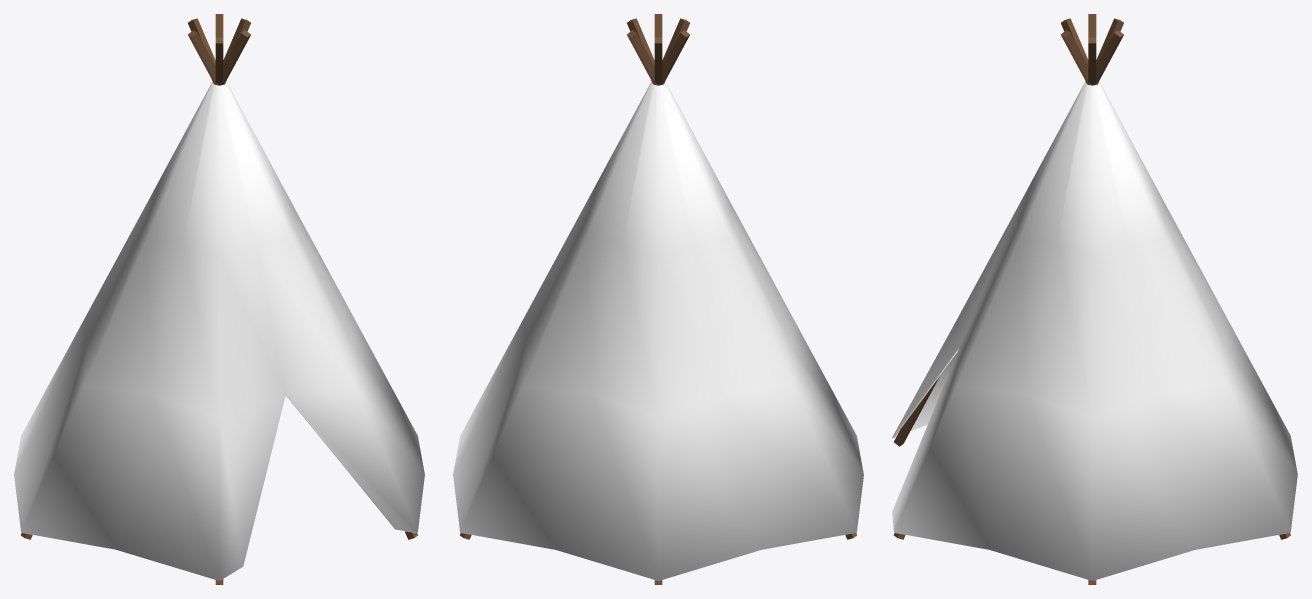
The model's file is dbe633ef-5dac-431c-a29a-ce76afa7da3b.glb.
The picture shows the model from 3 angles, left to right: view 1: azimuth 30°, elevation 25°; view 2: azimuth 150°, elevation 25°; view 3: azimuth 270°, elevation 25°; orthographic projection.
Visible parts, largest first — view 1: WhiteTeepeeCloth, WhiteTeepeePoles; view 2: WhiteTeepeeCloth, WhiteTeepeePoles; view 3: WhiteTeepeeCloth, WhiteTeepeePoles.
Part boxes in pixels (x1,y1,x2,y2): WhiteTeepeeCloth: (14,81,424,580); WhiteTeepeePoles: (21,14,417,584); WhiteTeepeeCloth: (453,81,863,580); WhiteTeepeePoles: (460,14,856,584); WhiteTeepeeCloth: (892,81,1297,580); WhiteTeepeePoles: (893,14,1290,584).
Size of what is drawn, in the model's own units: 5.86 by 6.58 by 5.19.
2 materials, 2 textured.
